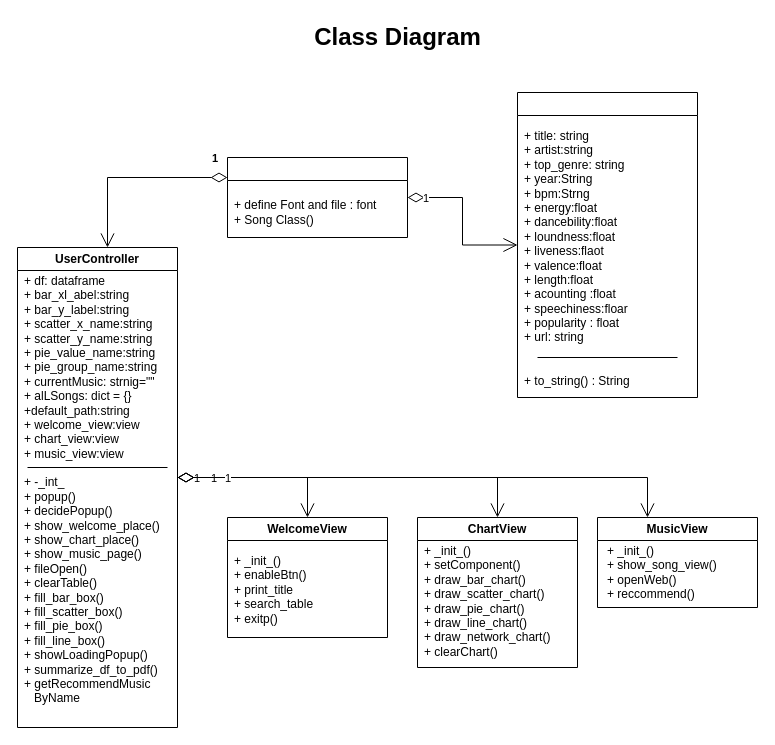
The diagram is 775 pixels wide and 745 high, and some of its shapes have lost their labels. Here are the shapes that lost their labels. From the top down, the box of each, then its label:
(226, 156, 408, 238): Model
(516, 92, 698, 398): Song
